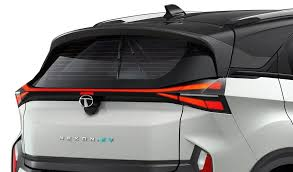Tata Nexon: (11, 4, 293, 172)
